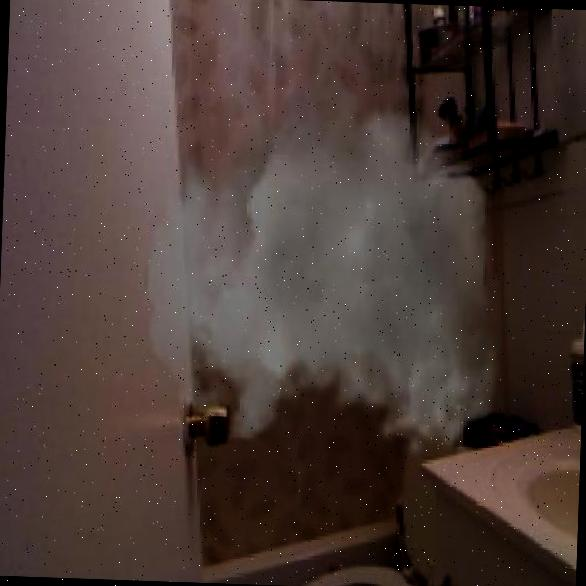smoke: (126, 128, 515, 447)
